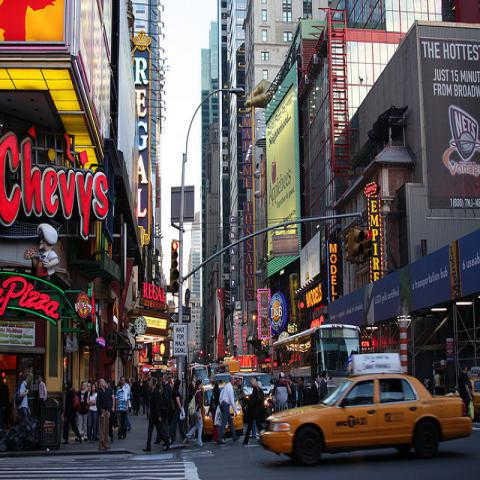bus: (271, 326, 360, 390)
car: (260, 374, 472, 466), (202, 380, 244, 439), (234, 371, 275, 400), (214, 373, 231, 385)
